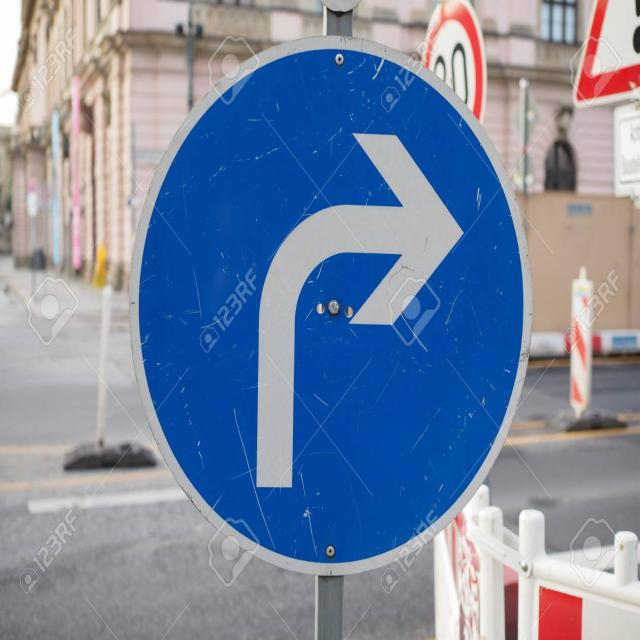RIGHT: (130, 35, 532, 575)
